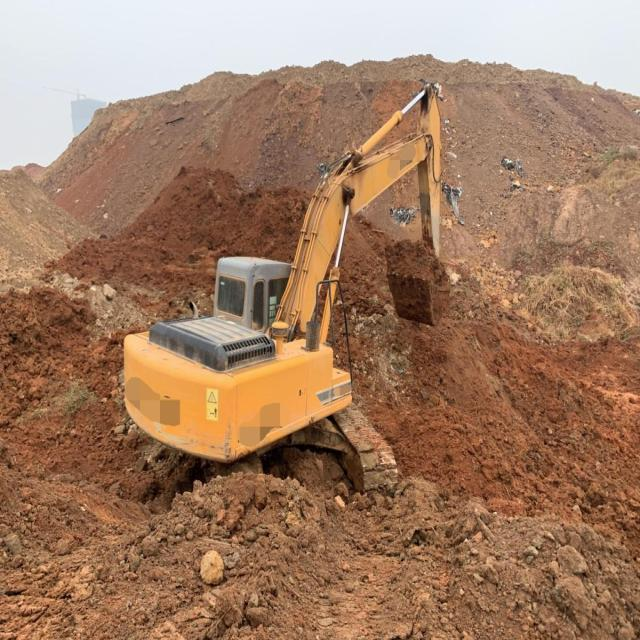excavator: (104, 76, 465, 523)
